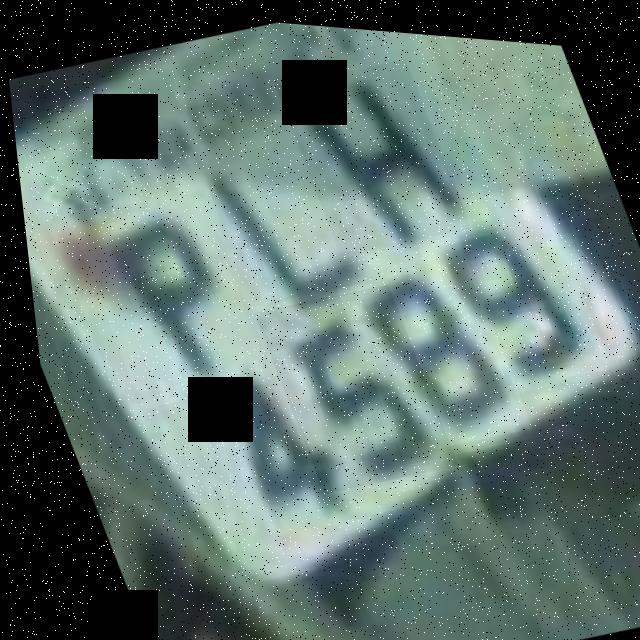4: (166, 313, 378, 564)
5: (243, 269, 451, 498)
8: (318, 219, 527, 458)
9: (396, 166, 607, 398)
H: (270, 43, 470, 259)
J: (171, 103, 384, 343)
P: (57, 172, 268, 415)
